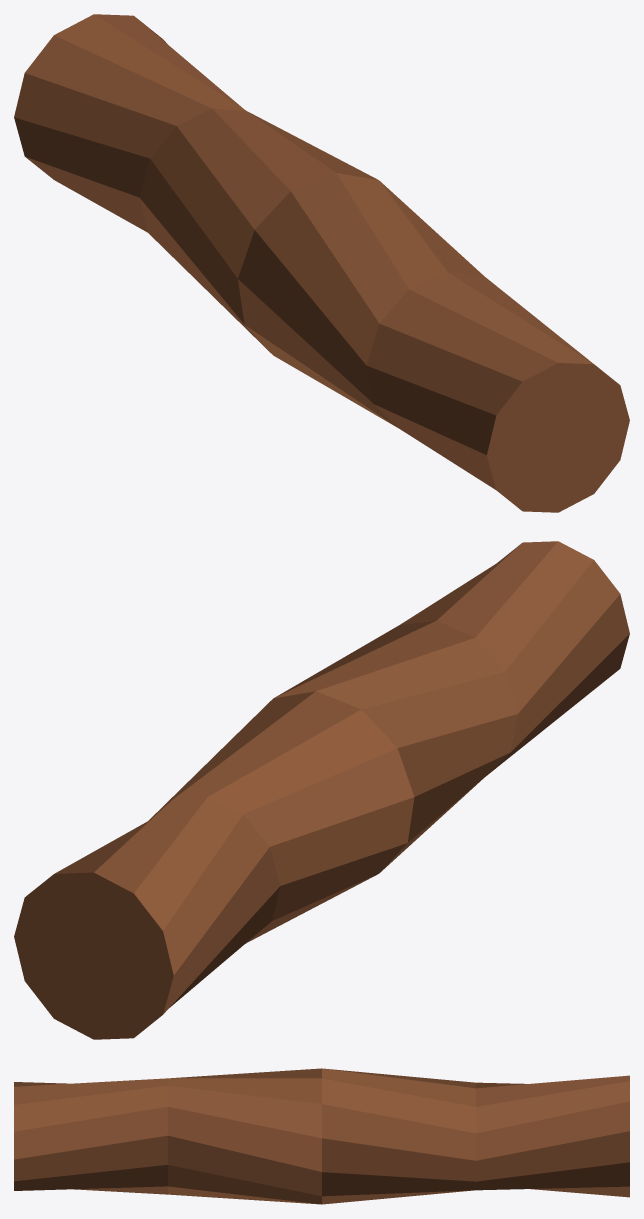
File: Tronco.fbx
The picture shows the model from 3 angles, top to bottom: view 1: azimuth 30°, elevation 25°; view 2: azimuth 150°, elevation 25°; view 3: azimuth 270°, elevation 25°; orthographic projection. The views are drawn at different scales.
Parts seen in each view (by area): view 1: Cylinder; view 2: Cylinder; view 3: Cylinder.
Boxes of the visible parts, bbox=[...] form: Cylinder: bbox=[14, 14, 629, 512]; Cylinder: bbox=[14, 541, 629, 1039]; Cylinder: bbox=[14, 1068, 629, 1204].
Bounding box in the file's own units: 0.3974 × 0.3974 × 1.81.
